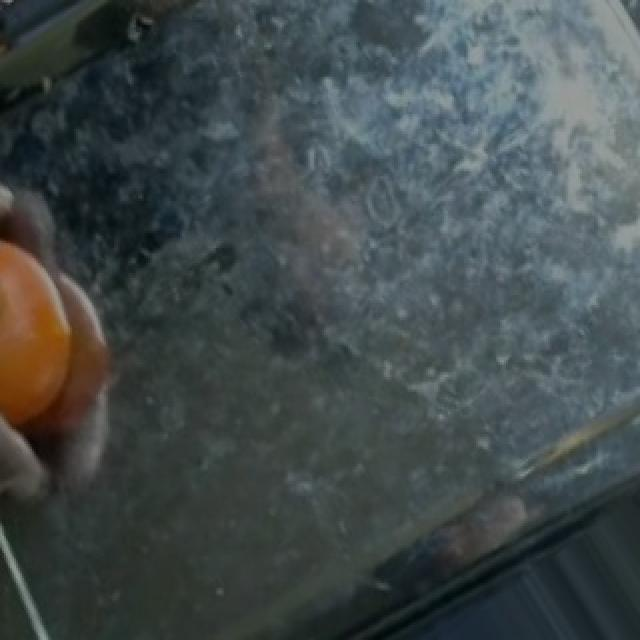Fruit: (0, 218, 100, 456)
